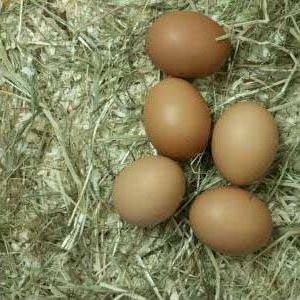egg: (189, 183, 274, 256), (144, 78, 212, 164), (211, 101, 280, 184), (146, 10, 231, 76), (112, 154, 187, 226)
